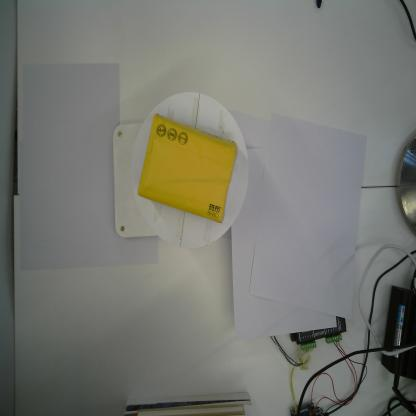Tissue: (138, 111, 240, 226)
